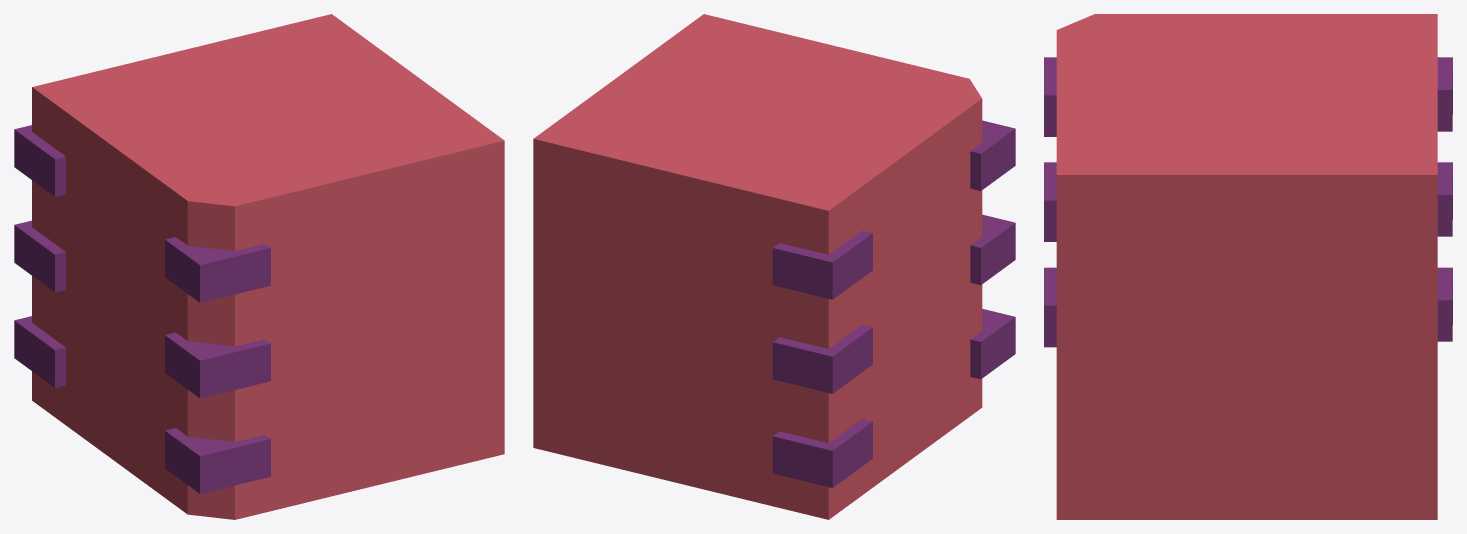
The model's file is 1Right Connect pinkpurple.fbx.
3 renders of one model, left to right at view 1: azimuth 30°, elevation 25°; view 2: azimuth 150°, elevation 25°; view 3: azimuth 270°, elevation 25°, orthographic. The views are drawn at different scales.
Visible parts, largest first — view 1: pCube2, pCube4, pCube5, pCube3, pCube6, pCube8, pCube7; view 2: pCube2, pCube8, pCube6, pCube7, pCube4, pCube3, pCube5; view 3: pCube2, pCube6, pCube8, pCube7, pCube5, pCube3, pCube4.
Boxes of the visible parts, x1,y1,x2,y2 form: pCube2: (32,14,504,519); pCube4: (165,332,270,398); pCube5: (165,428,270,493); pCube3: (165,237,270,302); pCube6: (14,220,65,292); pCube8: (14,125,65,196); pCube7: (14,316,65,387); pCube2: (533,14,982,519); pCube8: (772,230,872,299); pCube6: (772,324,872,393); pCube7: (772,418,872,487); pCube4: (970,214,1015,285); pCube3: (970,120,1015,190); pCube5: (970,309,1015,379); pCube2: (1056,14,1437,519); pCube6: (1437,162,1452,236); pCube8: (1437,57,1452,131); pCube7: (1437,267,1452,341); pCube5: (1044,267,1056,347); pCube3: (1044,57,1056,136); pCube4: (1044,162,1056,241).
Size of the model in its own units: 2.07 by 2 by 2.15.
